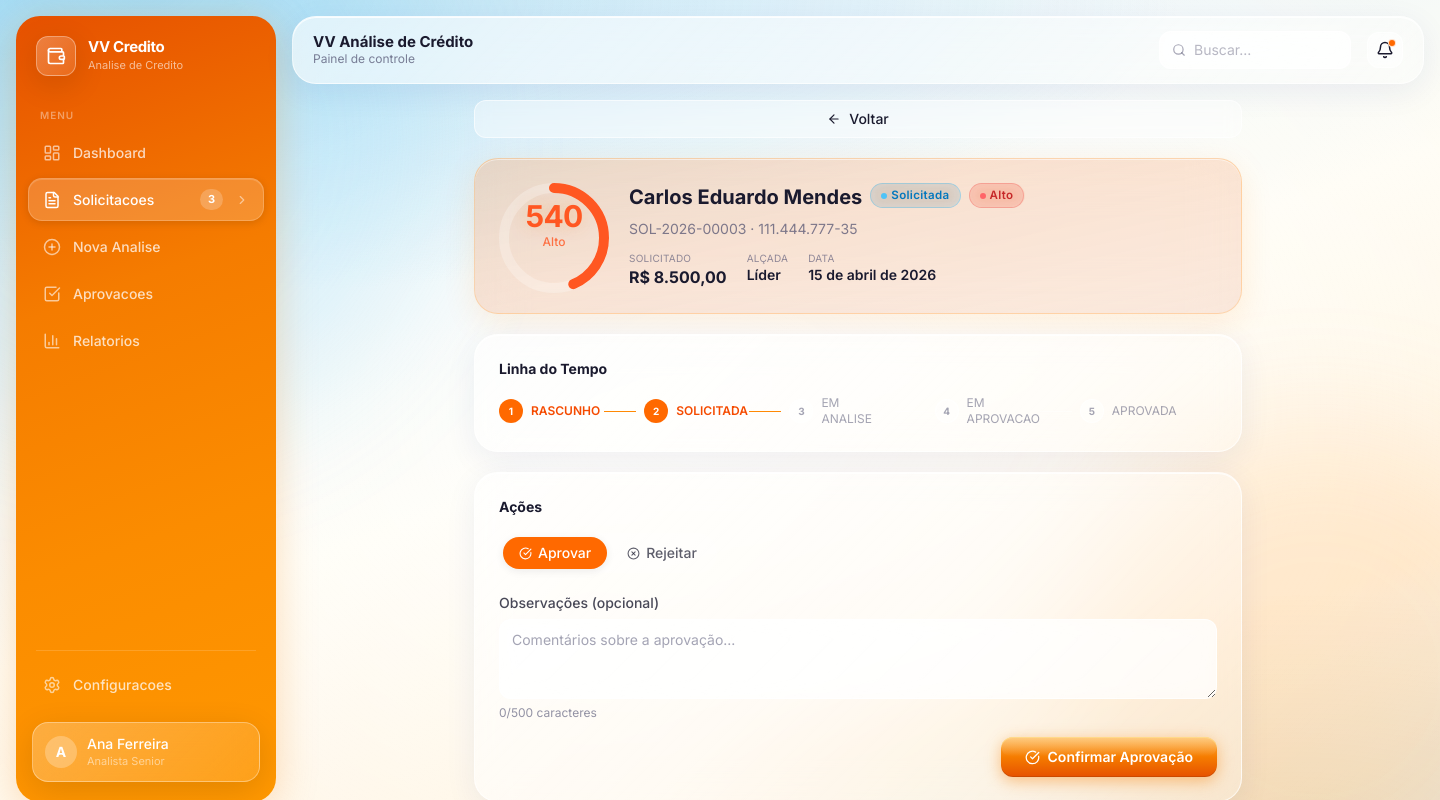
Solicitação Detail — Approval & Rejection Flow › Approval flow for a SOLICITADA request (req-003) › approval with optional observations succeeds
This screenshot has width=1440, height=800.
Type "Aprovação com observação de teste para verificação do fluxo." into the text box with placeholder "Comentários sobre a aprovação..." at [858, 659], box top-left (499, 619), bottom-right (1217, 699)
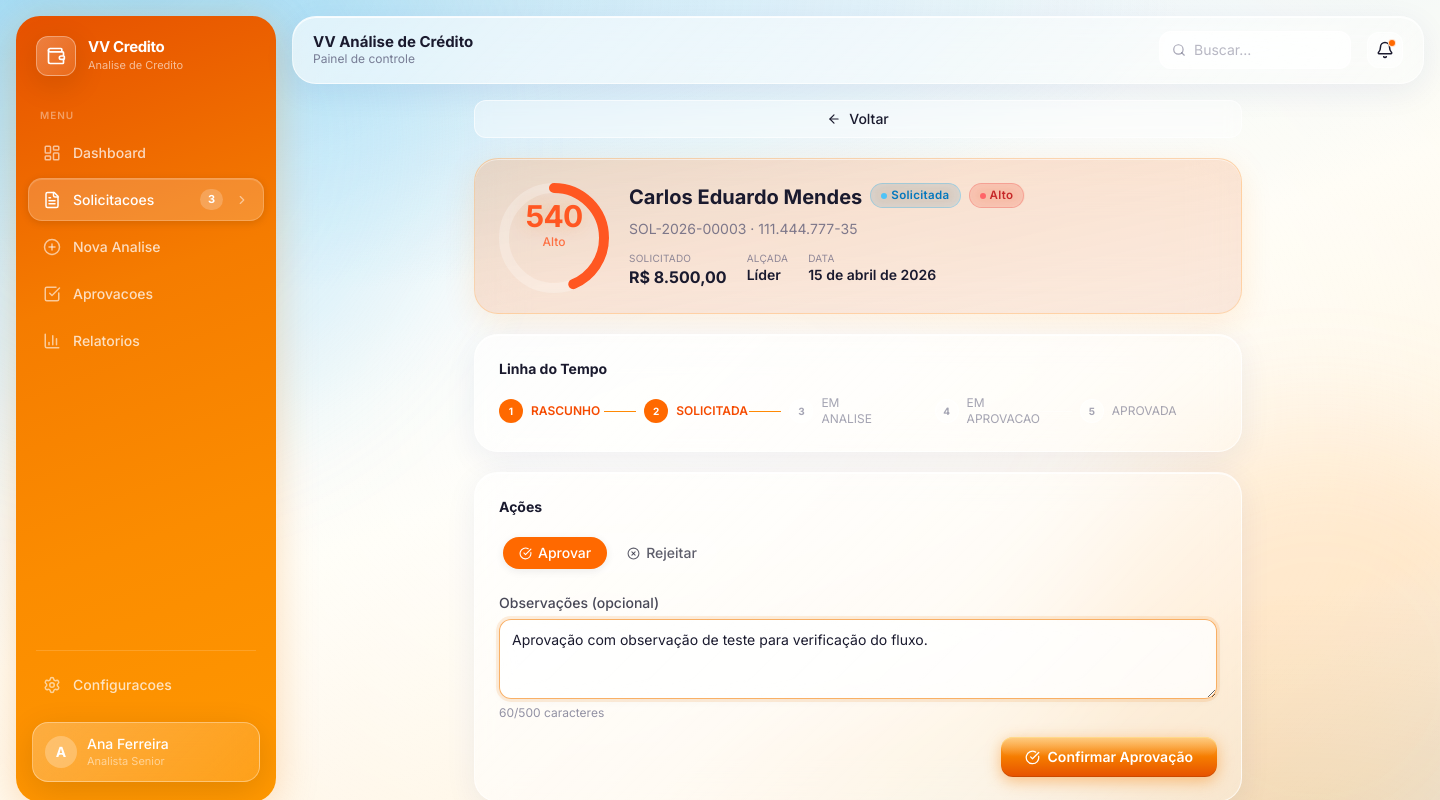
Click the button "Confirmar Aprovação" at [1110, 757], box top-left (1001, 737), bottom-right (1218, 777)
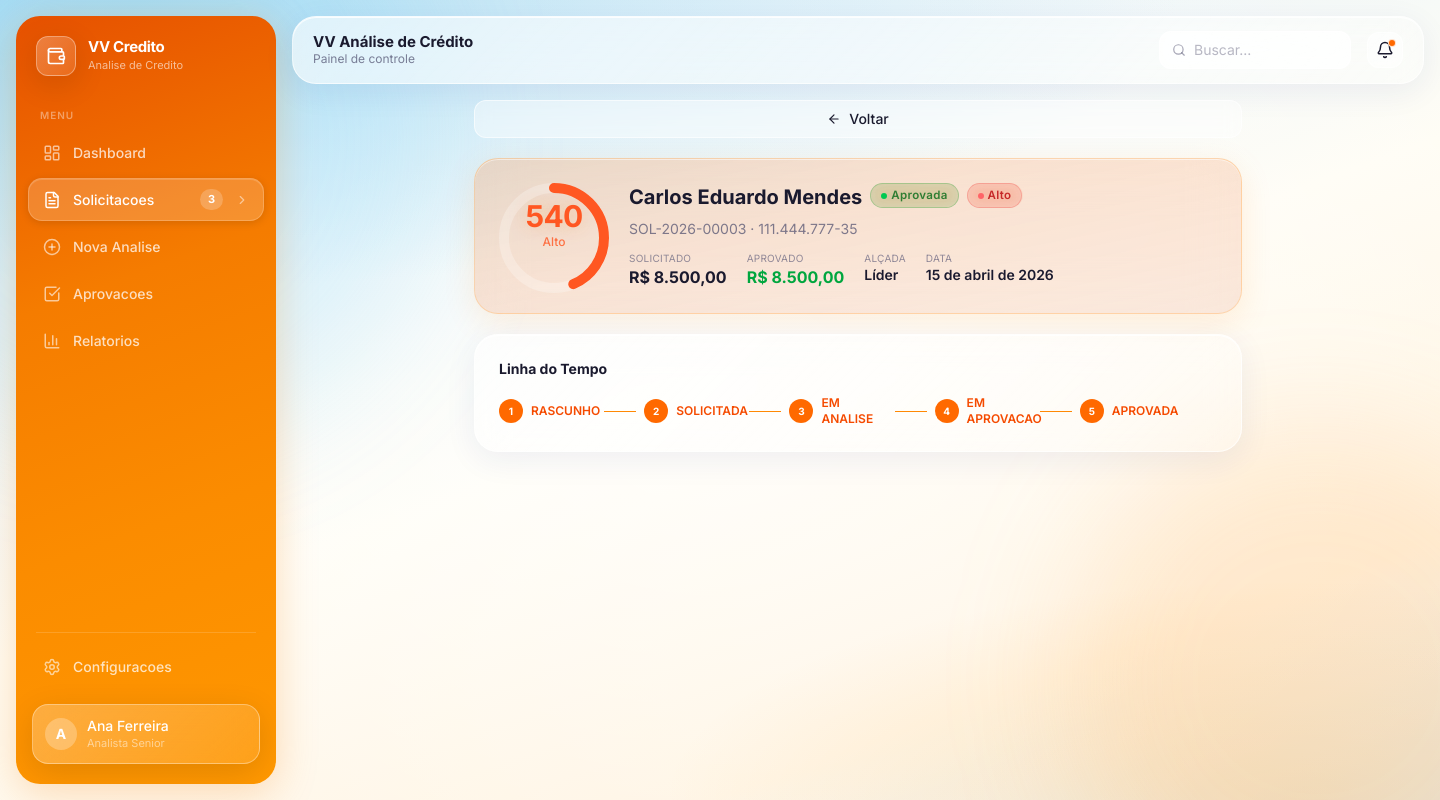
Now the text "Aprovada" is shown, box top-left (870, 183), bottom-right (959, 208)
